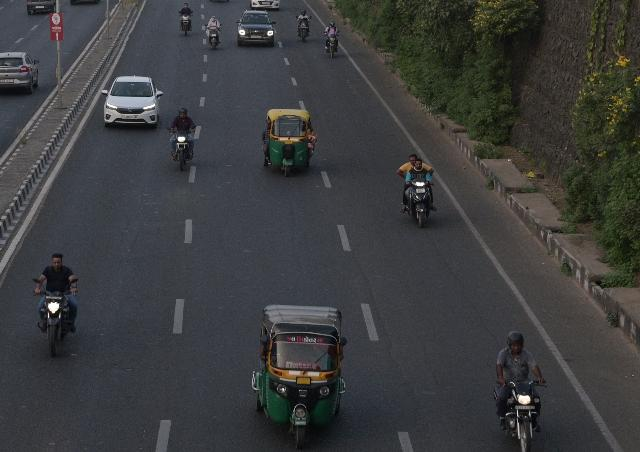With Helmet: (505, 328, 527, 354), (178, 106, 188, 120), (329, 20, 335, 28), (301, 9, 307, 16)
Without Helmet: (50, 252, 66, 269), (414, 158, 424, 170), (408, 154, 418, 166), (212, 16, 216, 22), (184, 4, 188, 8)
